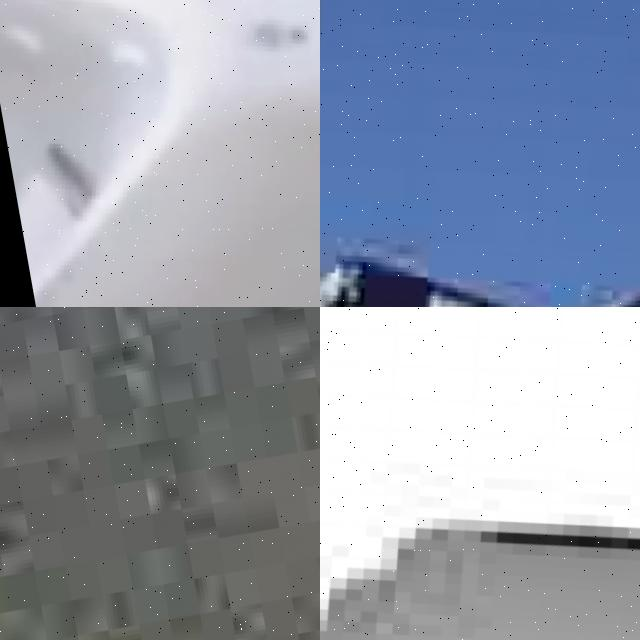drone: (320, 307, 640, 640), (0, 0, 320, 307), (320, 0, 640, 307)
